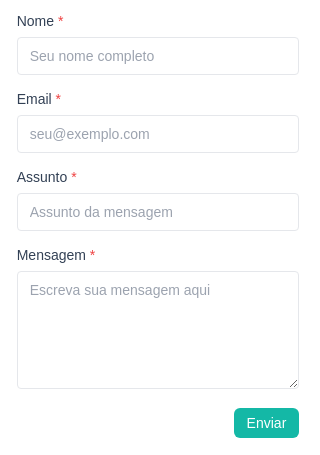
ContactForm › desabilita botão durante envio
The image size is (320, 455).
Type "João Silva" into the field labelled "Nome *" at x=158, y=56, box [17, 36, 299, 74]
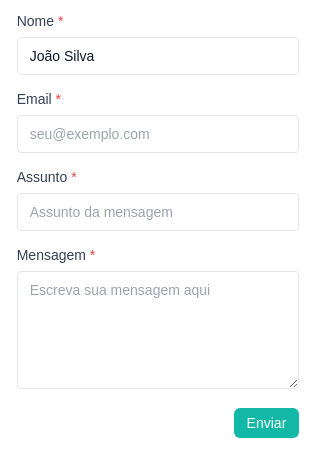
Type "joao@example.com" into the field labelled "Email *" at x=158, y=134, box [17, 114, 299, 152]
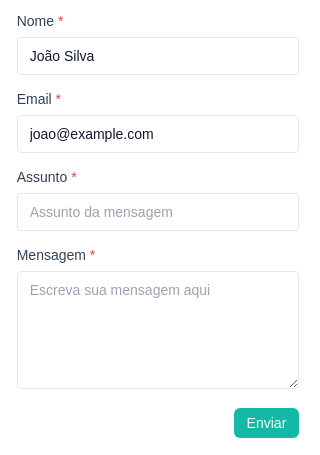
Type "Teste" into the field labelled "Assunto *" at x=158, y=212, box [17, 192, 299, 230]
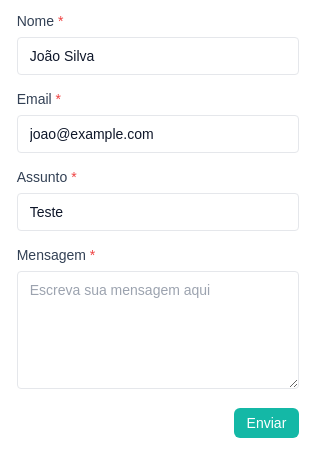
Type "Mensagem de teste" into the text box labelled "Mensagem *" at x=158, y=330, box [17, 270, 299, 388]
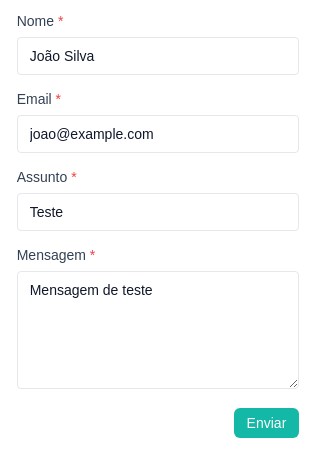
Click the button "Enviar" at x=266, y=422, box [234, 408, 299, 438]
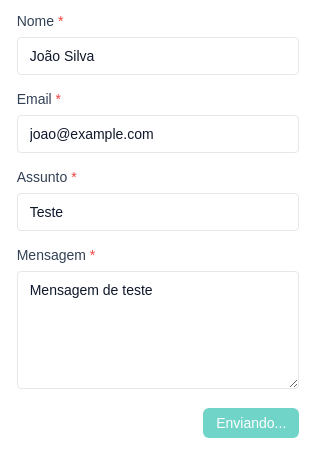
Now the button "Enviando..." is disabled, box [203, 408, 299, 438]
